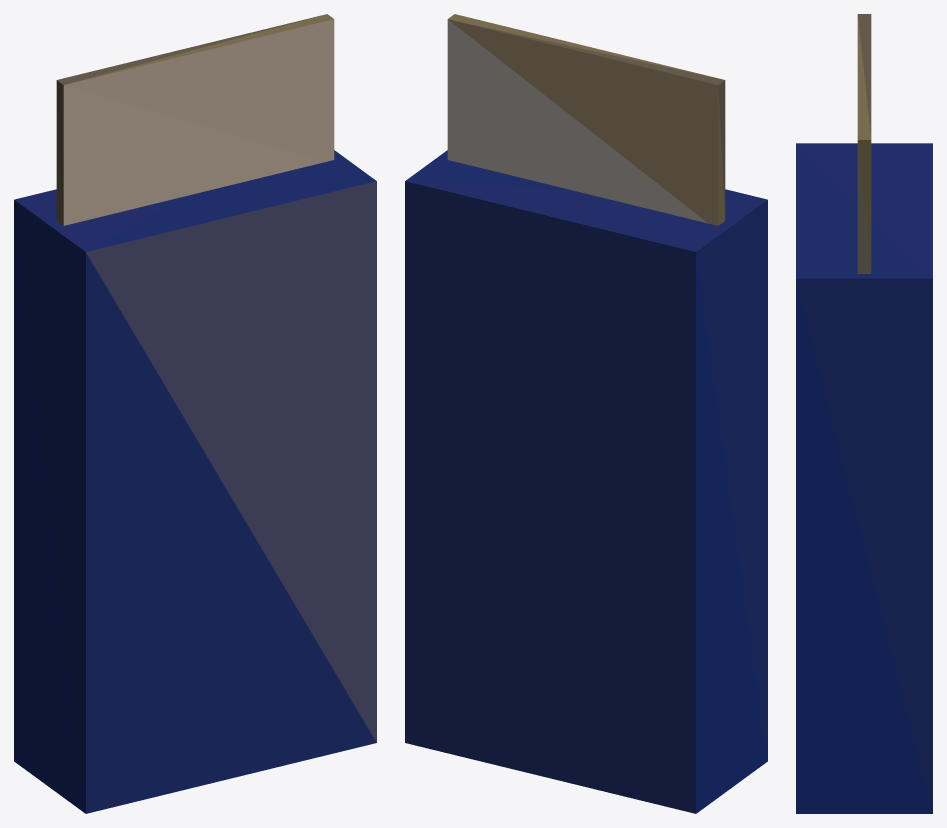
File: mt_ticket_machine.glb
3 renders of one model, left to right at view 1: azimuth 30°, elevation 25°; view 2: azimuth 150°, elevation 25°; view 3: azimuth 270°, elevation 25°, orthographic. The views are drawn at different scales.
Visible parts, largest first — view 1: ticket_machine; view 2: ticket_machine; view 3: ticket_machine.
Part boxes in pixels (x1=…): ticket_machine: x1=14, y1=14, x2=376, y2=813; ticket_machine: x1=405, y1=14, x2=767, y2=813; ticket_machine: x1=796, y1=14, x2=932, y2=813.
Size of the model in its own units: 0.8245 by 1.9 by 0.3521.
